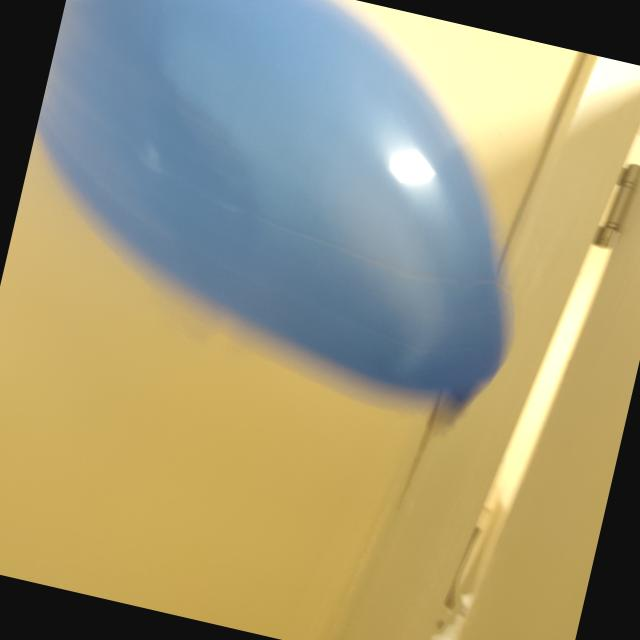balloon: (36, 0, 502, 400)
